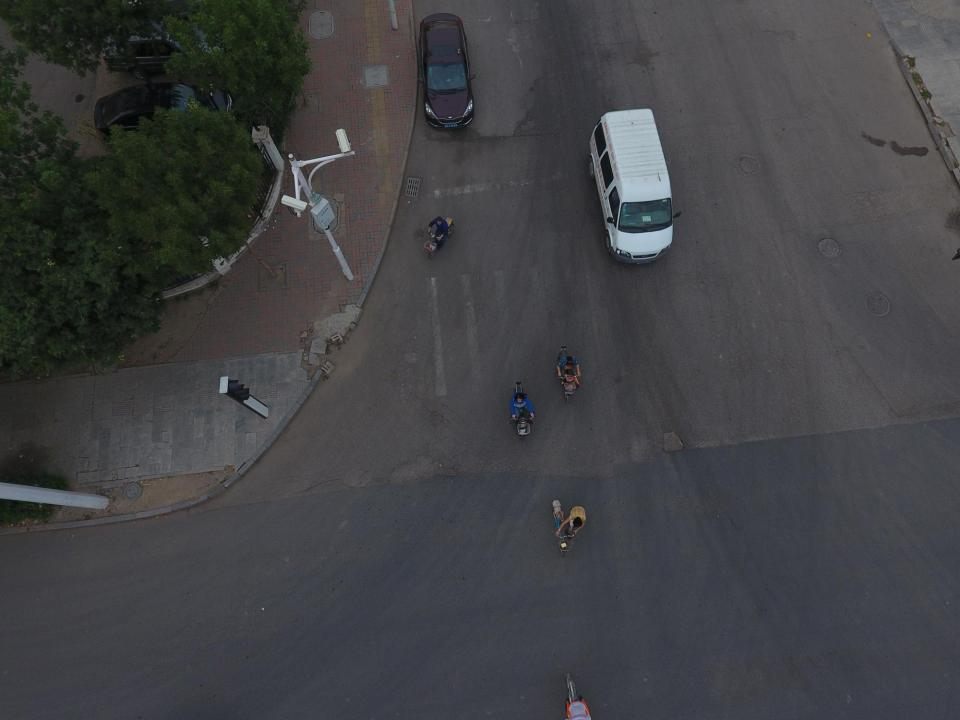car: (102, 17, 241, 77), (94, 79, 235, 138), (417, 13, 476, 130)
van: (589, 108, 681, 264)
